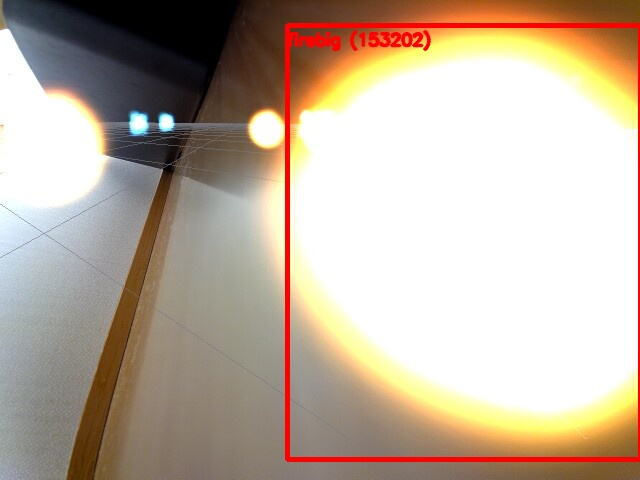firebig: (287, 25, 640, 459)
